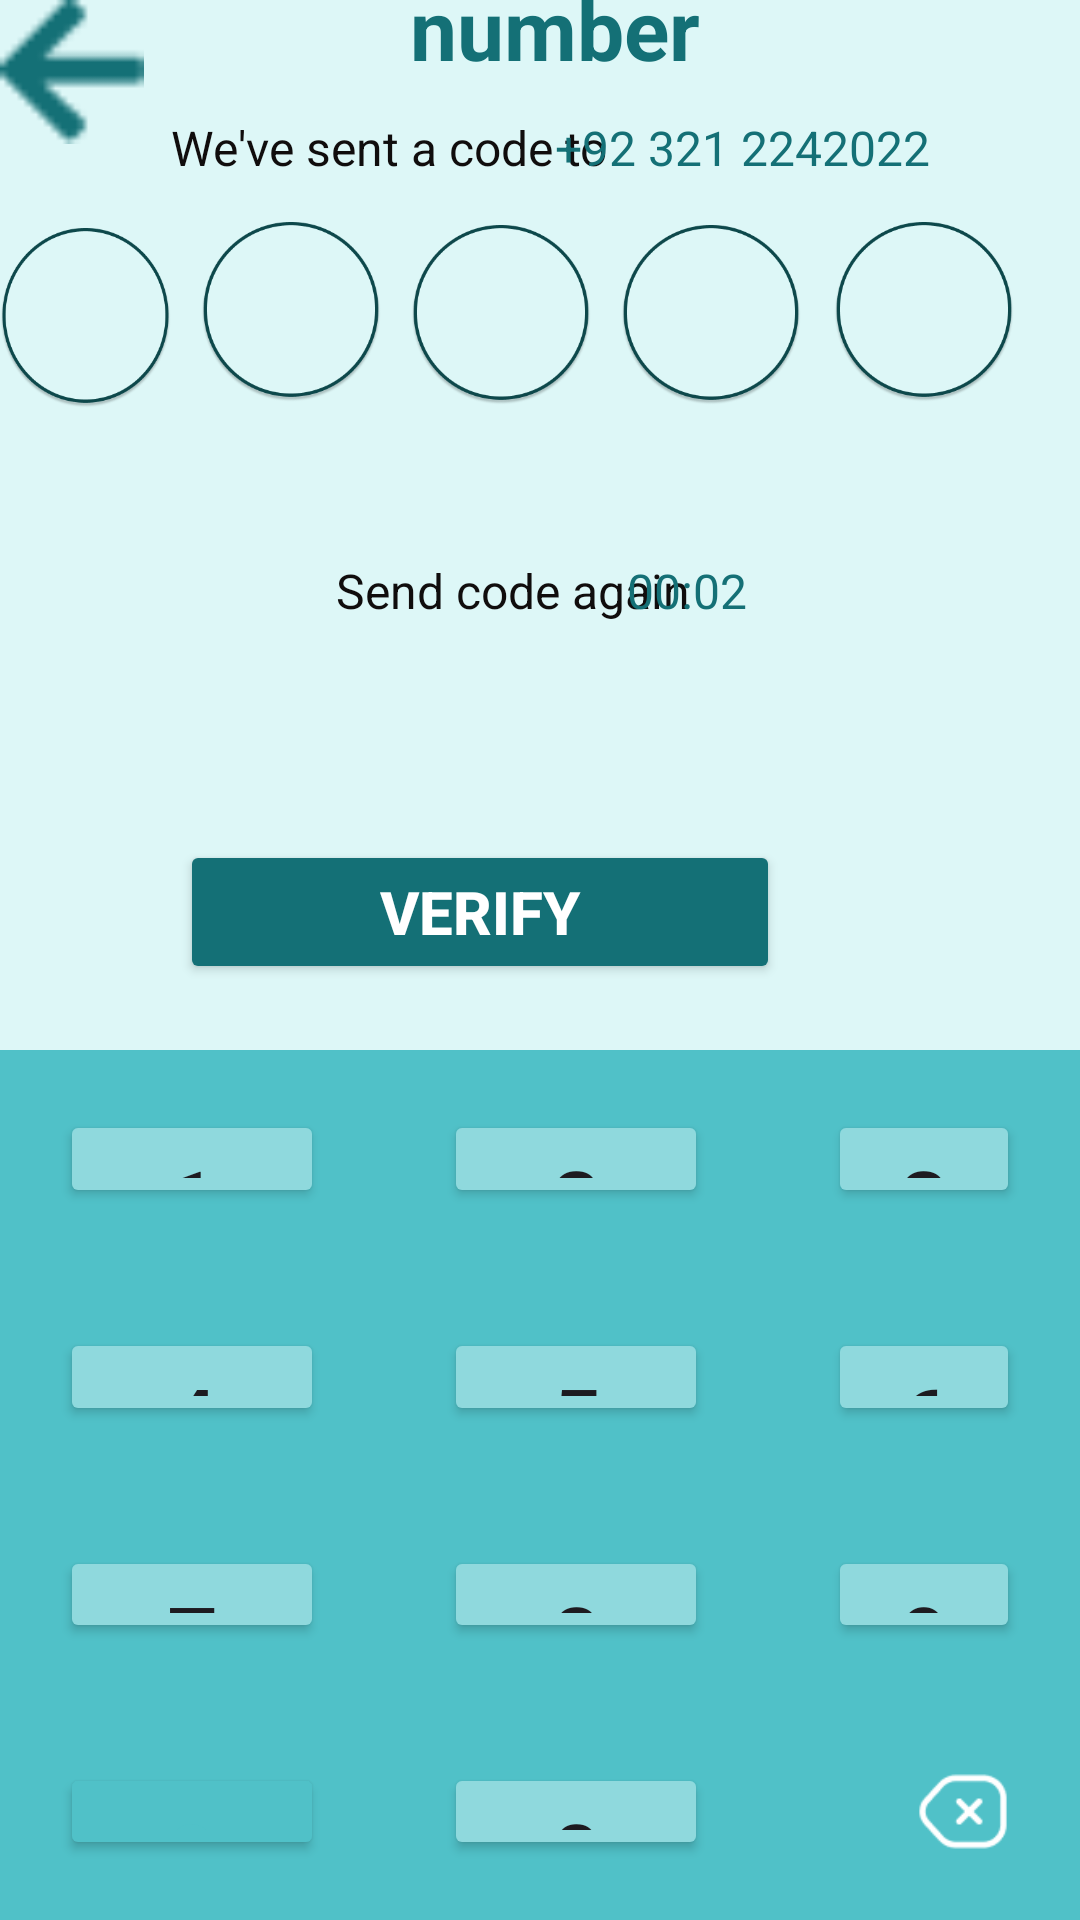

Locate icon controls on the screen. Image size 1080x1920, boxes as bbox=[x1, y1, x2, y2].
tagcross: bbox=[919, 1774, 1007, 1849]
